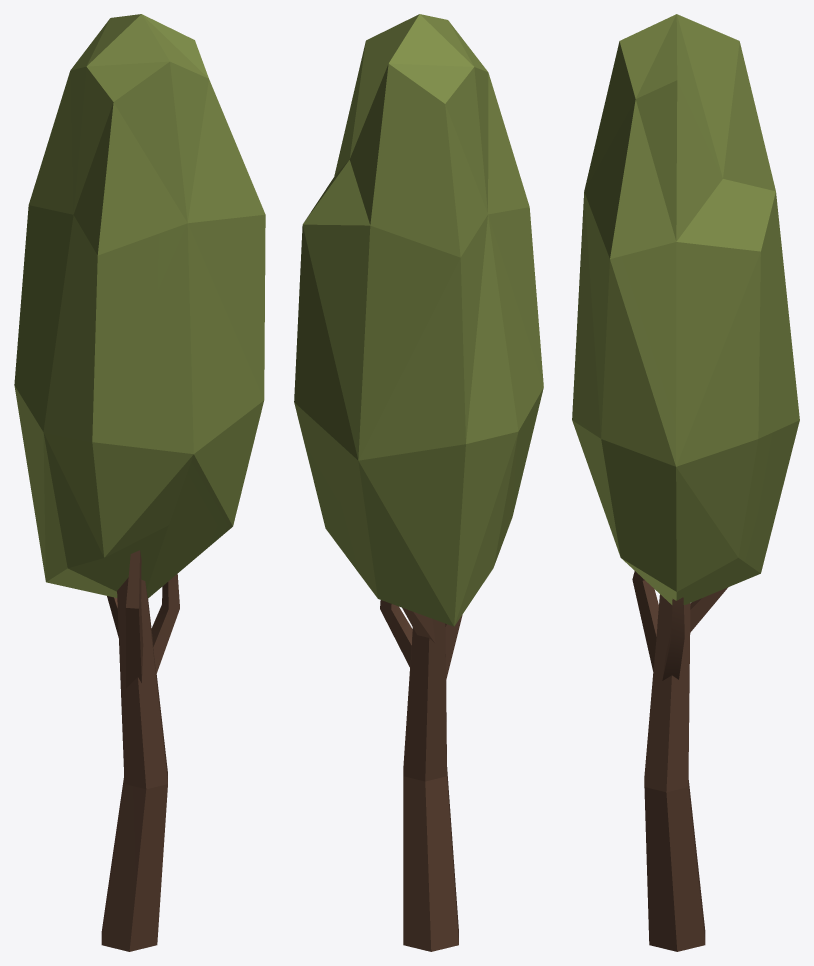
File: tree0.glb
3 views of the same model, side by side, from view 1: azimuth 30°, elevation 25°; view 2: azimuth 150°, elevation 25°; view 3: azimuth 270°, elevation 25° (orthographic).
Visible parts, largest first — view 1: tree10; view 2: tree10; view 3: tree10.
Boxes of the visible parts, x1,y1,x2,y2 form: tree10: (14, 14, 265, 951); tree10: (294, 14, 543, 951); tree10: (572, 14, 799, 951).
Bounding box in the file's own units: 1.53 × 6.4 × 1.42.
1 material, 1 textured.
